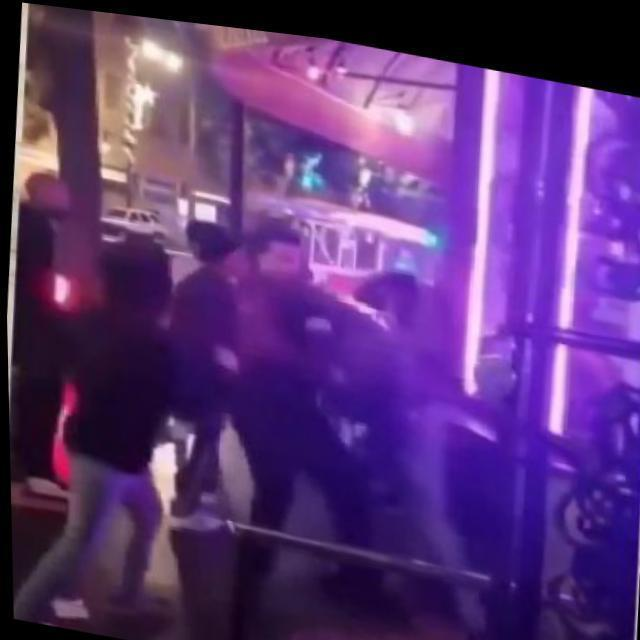fight: (205, 201, 514, 640)
